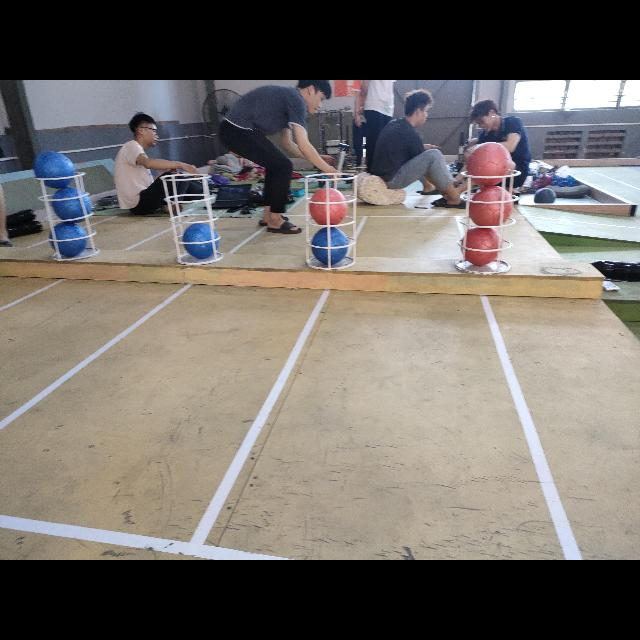B: (31, 150, 77, 190), (312, 227, 351, 266), (182, 223, 220, 259), (54, 189, 94, 223), (50, 224, 88, 256)
R: (464, 142, 512, 188), (466, 188, 514, 226), (308, 186, 350, 224), (460, 230, 504, 266)
